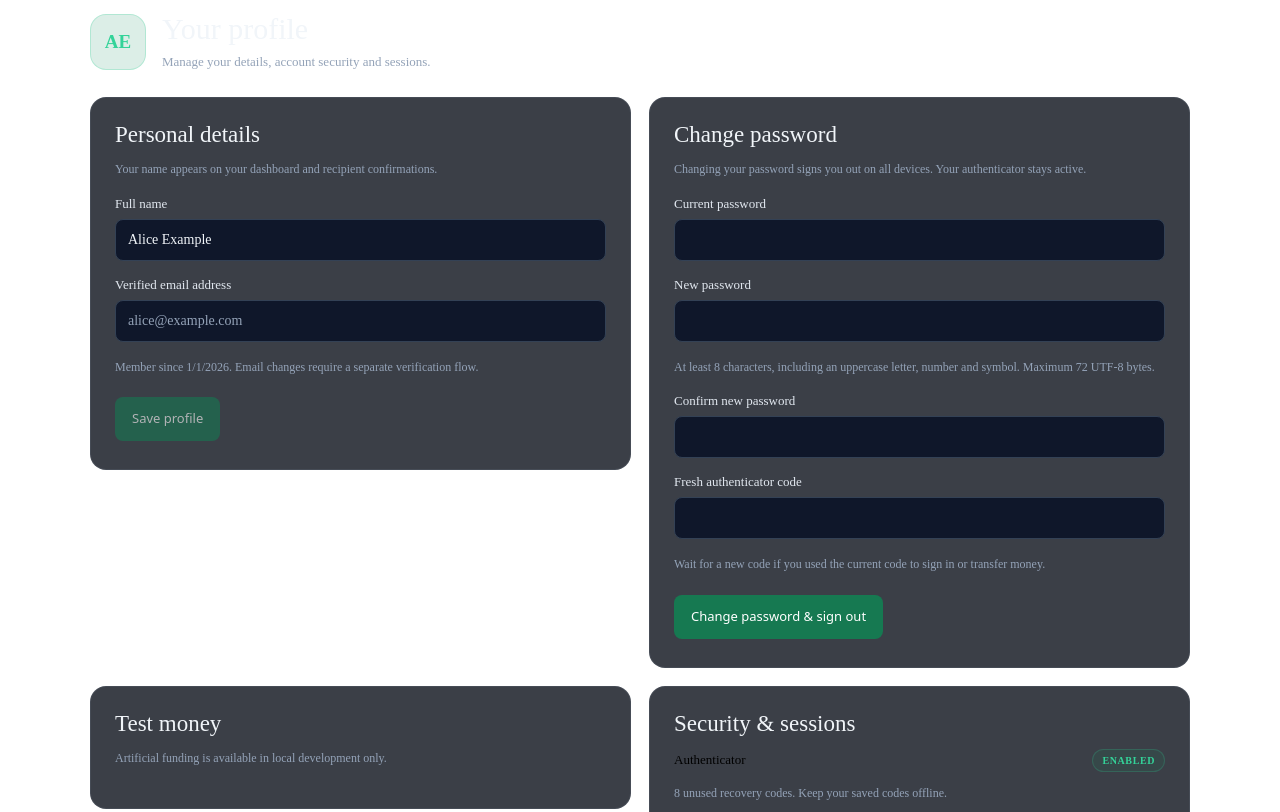
it: saving a name refreshes the shared account information
This screenshot has width=1280, height=812.
Check: the text "8 unused recovery codes. Keep your saved codes offline." is shown, box left=674, top=786, right=947, bottom=800
Replace the text in the field labelled "Full name" with "Alice Updated" at (360, 240), box left=115, top=219, right=606, bottom=261
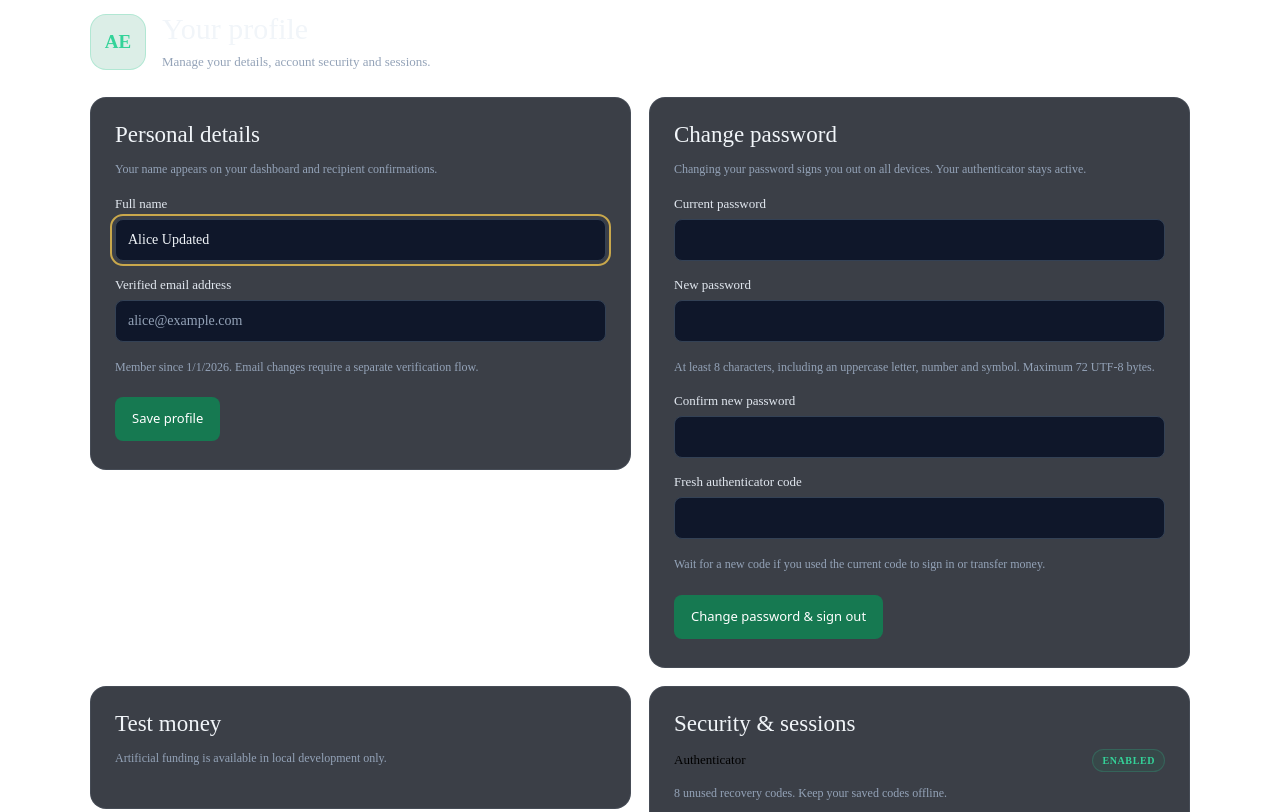
Click the button "Save profile" at (168, 419), box left=115, top=397, right=220, bottom=441
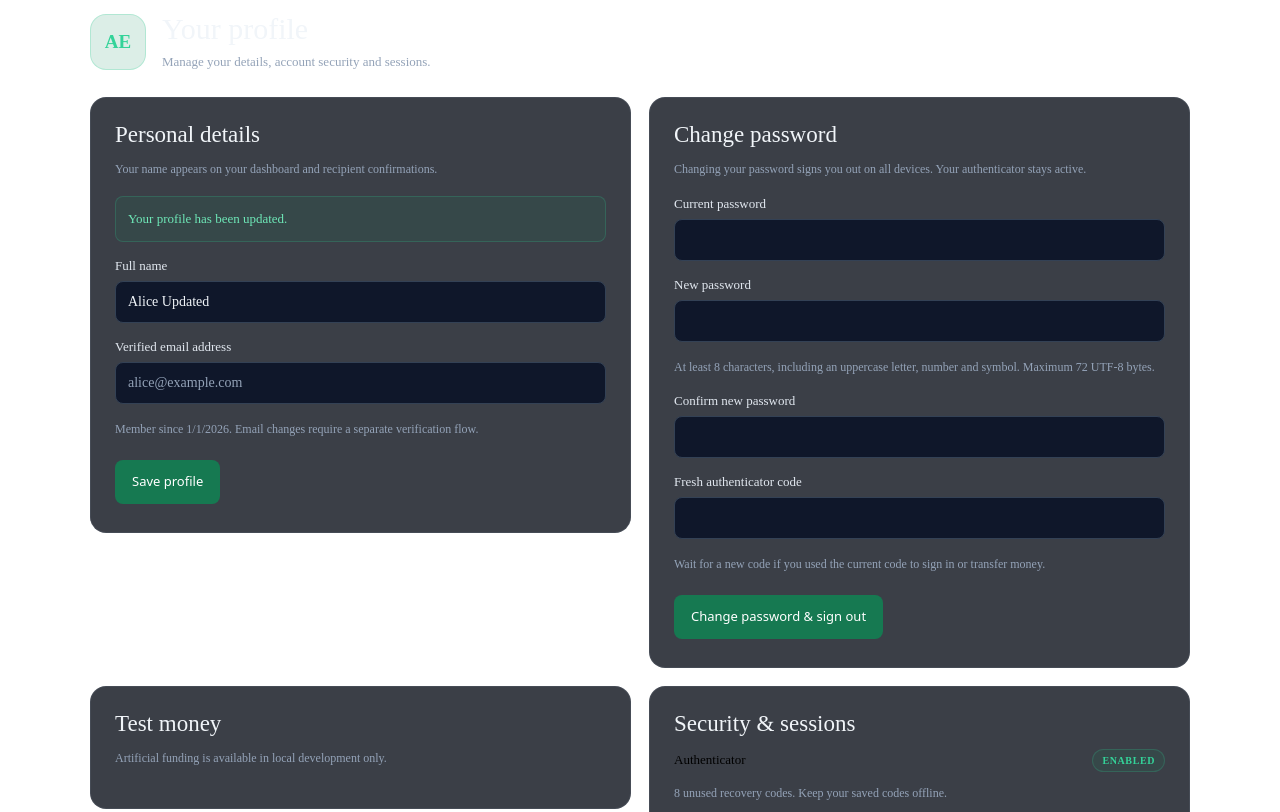
Check: the text "Your profile has been updated." is shown, box left=115, top=196, right=606, bottom=242
